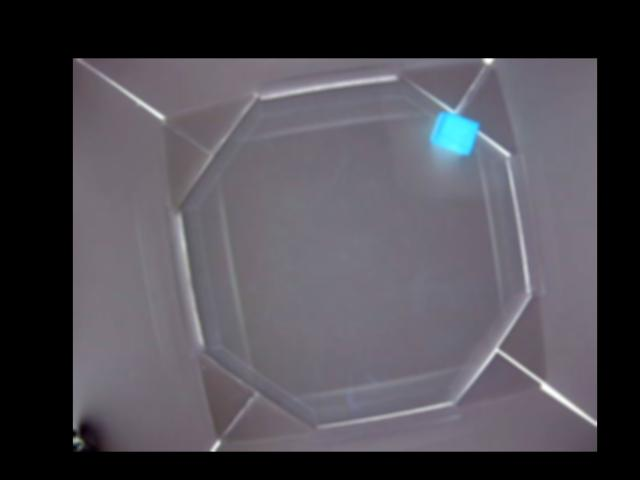Carrot: (432, 111, 480, 155)
